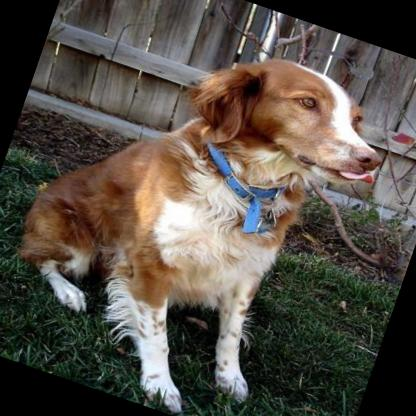Brittany_spaniel: (0, 0, 406, 416)
